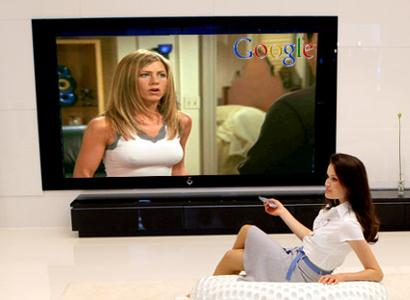person: (211, 152, 384, 287)
